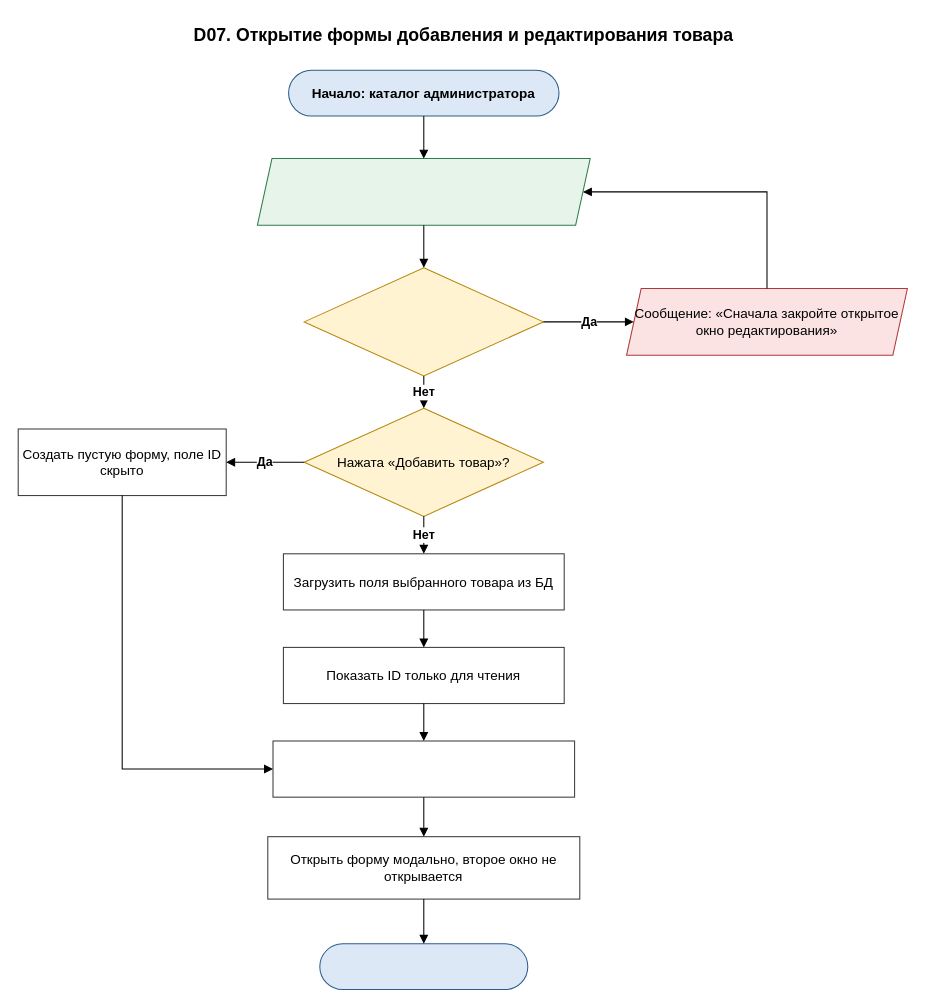
Some shapes in this 926 by 1008 pixel diagram are drawn without their labels. Here are the shapes that lost their labels. From the top down, the centre of each, then its label:
At pixel 423 191: "Нажата «Добавить товар» или выбран товар в списке".
At pixel 423 321: "Окно редактирования уже открыто?".
At pixel 423 768: "Заполнить списки категорий и производителей".
At pixel 423 966: "Конец".
